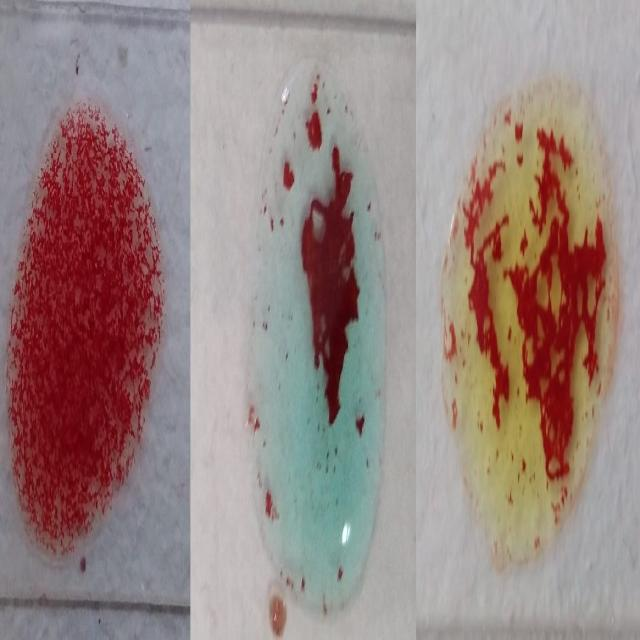A: (246, 61, 390, 612)
B: (442, 78, 620, 554)
D: (8, 92, 161, 556)
